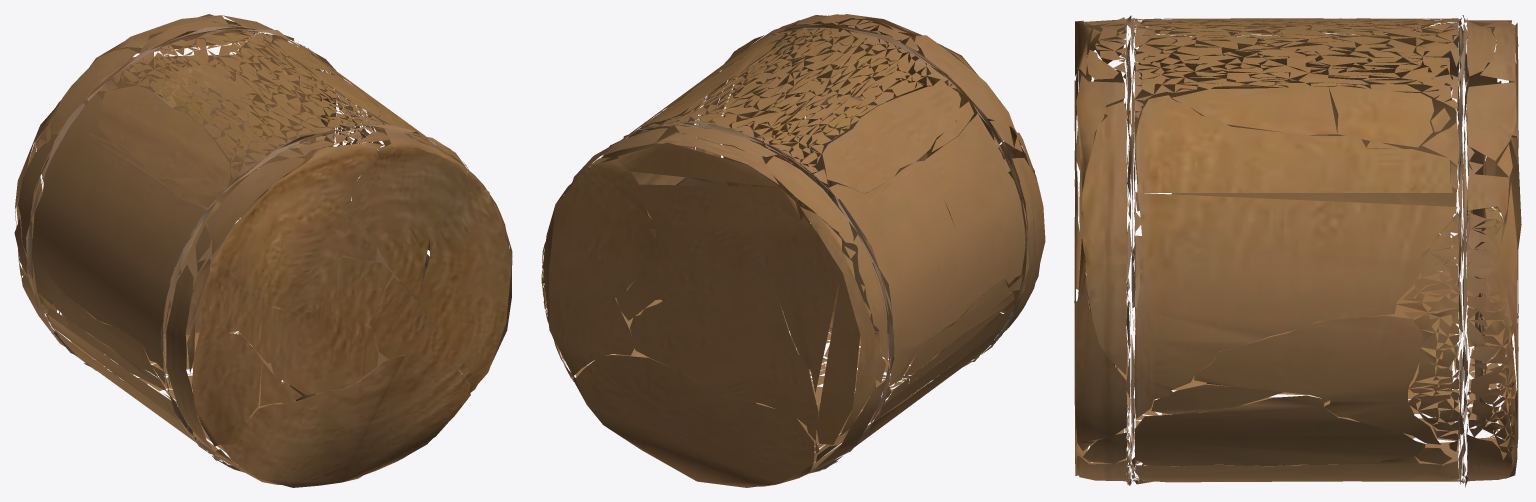
File: obs_hay.glb
The picture shows the model from 3 angles, left to right: view 1: azimuth 30°, elevation 25°; view 2: azimuth 150°, elevation 25°; view 3: azimuth 270°, elevation 25°; orthographic projection. The views are drawn at different scales.
Visible parts, largest first — view 1: material; view 2: material; view 3: material.
Boxes of the visible parts, x1=… form: material: x1=14, y1=14, x2=512, y2=487; material: x1=541, y1=14, x2=1045, y2=487; material: x1=1074, y1=15, x2=1521, y2=487.
Bounding box in the file's own units: 0.9087 × 0.8882 × 0.844.
Materials: 1 (1 with a texture image).
